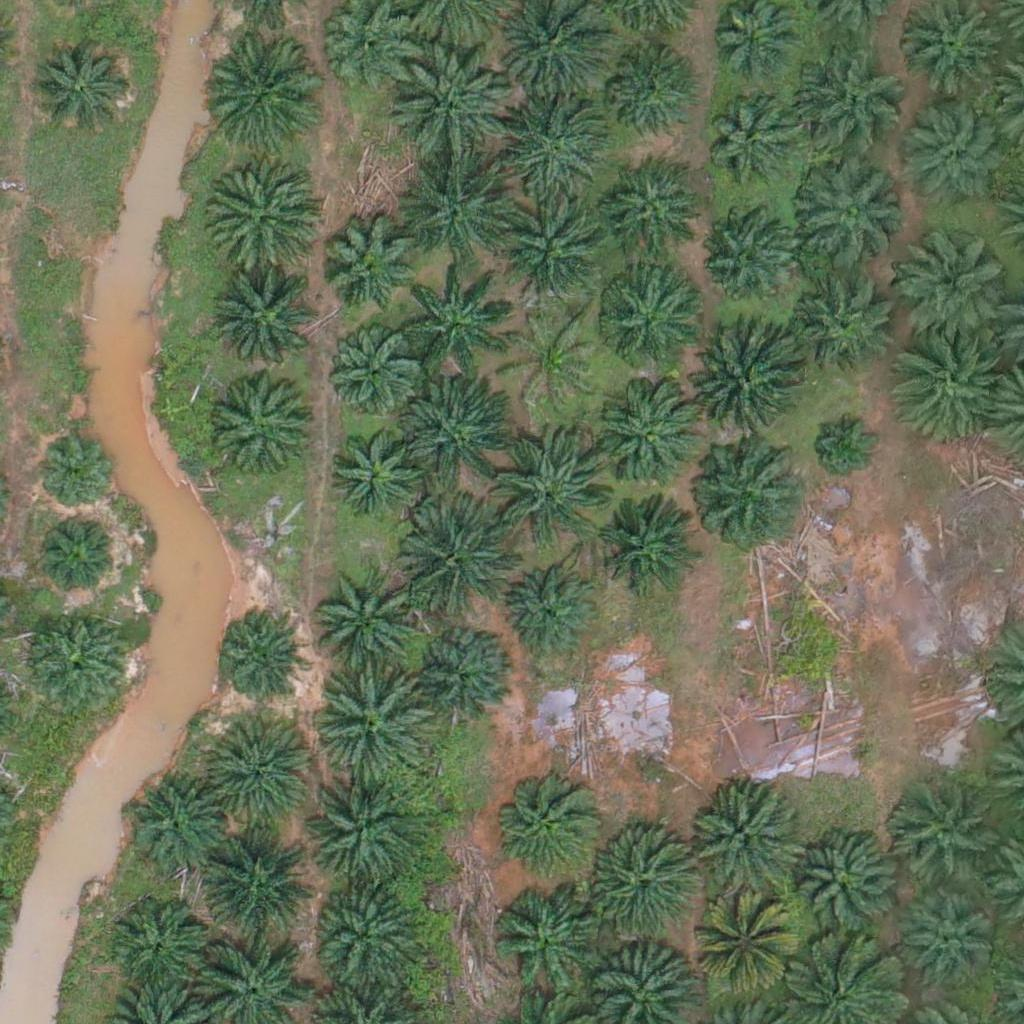Kelapa_Sawit: (313, 874, 426, 988), (401, 502, 514, 616), (304, 779, 417, 893), (202, 715, 315, 829), (208, 33, 321, 147), (490, 889, 603, 1002), (892, 98, 1005, 211), (892, 217, 1005, 330), (884, 331, 997, 444), (784, 828, 897, 941), (789, 158, 902, 271), (688, 327, 801, 440), (402, 376, 515, 489), (392, 50, 505, 163), (204, 157, 317, 270), (596, 377, 708, 491), (497, 88, 609, 202), (498, 201, 610, 315), (491, 766, 603, 880), (201, 823, 313, 937), (211, 266, 323, 380), (884, 779, 996, 892), (687, 785, 799, 898), (577, 829, 689, 942), (796, 41, 908, 154), (690, 443, 802, 556), (494, 432, 606, 545), (399, 263, 511, 376), (403, 148, 515, 261), (315, 556, 427, 669), (319, 670, 431, 783), (108, 896, 208, 997), (798, 277, 898, 378), (695, 209, 795, 310), (504, 305, 604, 406), (411, 623, 511, 724), (321, 323, 421, 424), (325, 419, 425, 520), (214, 375, 314, 476), (29, 39, 129, 140), (27, 608, 127, 709), (127, 776, 227, 877), (692, 900, 792, 1000), (597, 496, 697, 596), (601, 167, 701, 267), (594, 268, 694, 368), (500, 569, 600, 669), (318, 216, 418, 316), (706, 96, 794, 184), (603, 50, 691, 138), (904, 902, 991, 990), (215, 609, 302, 697), (34, 511, 121, 599), (37, 438, 112, 514), (808, 406, 883, 481)
